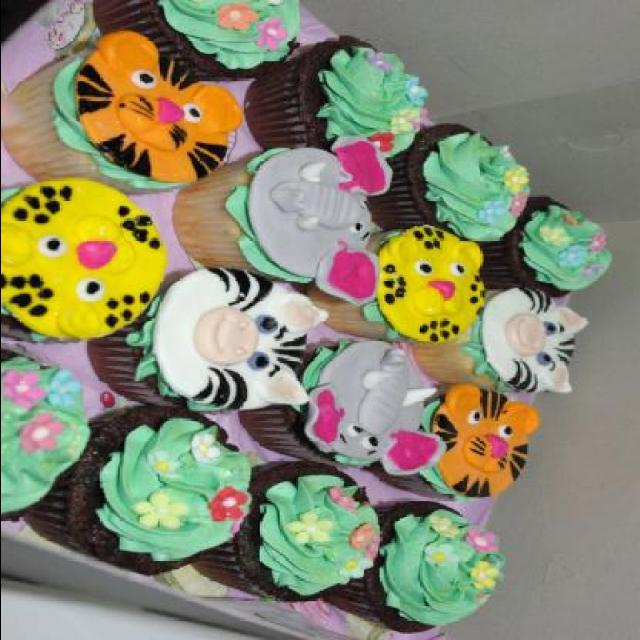Muffin: (1, 0, 612, 632)
